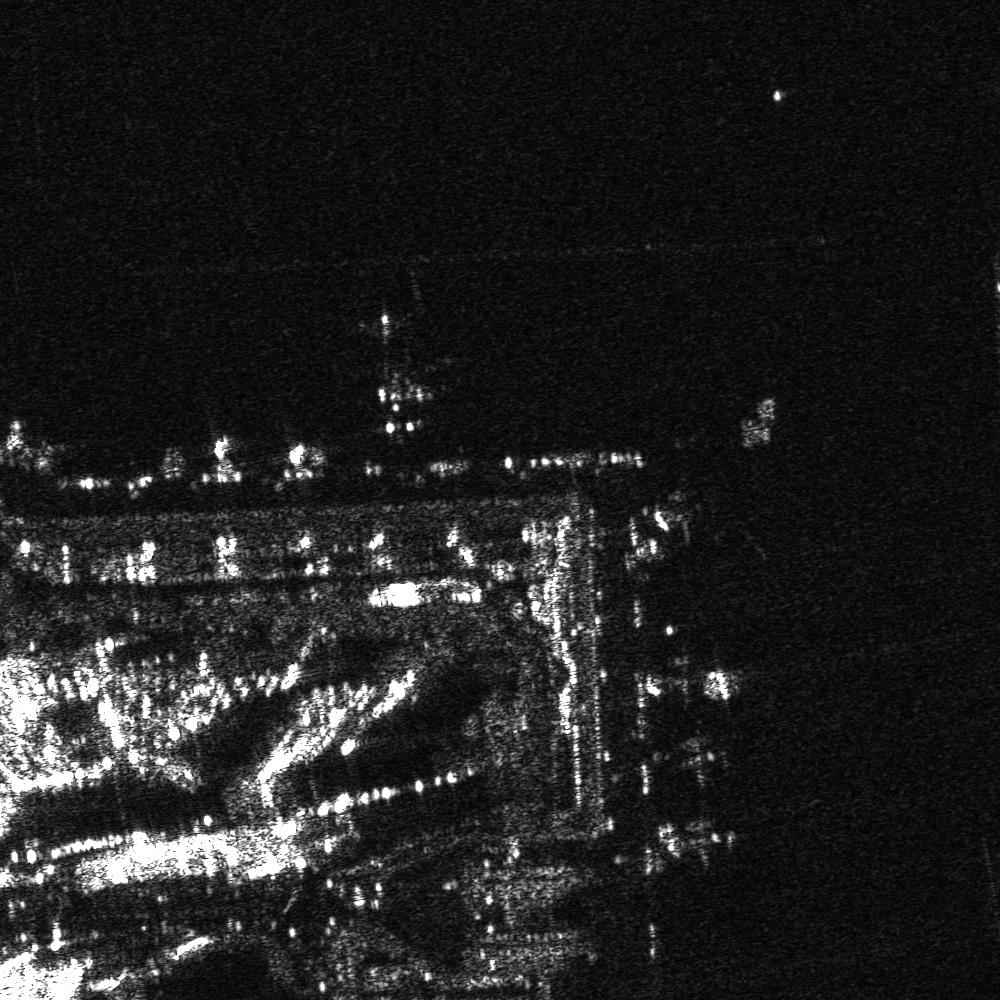A220: (637, 643, 752, 721), (652, 808, 748, 876), (640, 481, 722, 550), (658, 729, 737, 794)
Boeing787: (362, 368, 443, 449)
